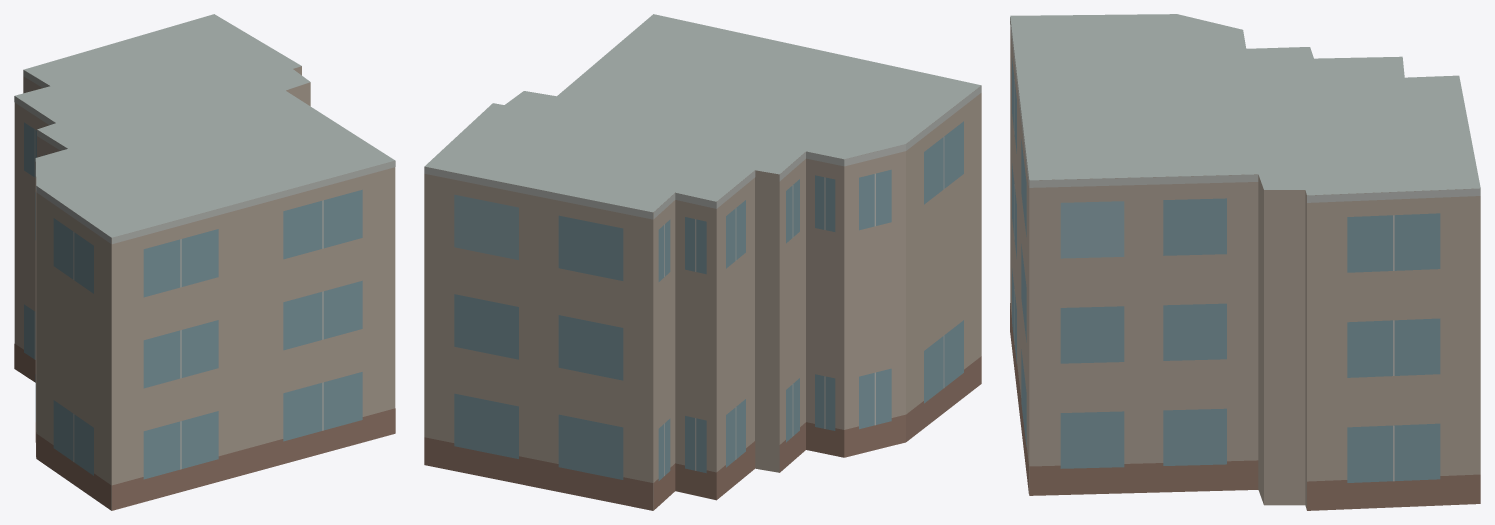
File: survey-upis-32979373.glb
The picture shows the model from 3 angles, left to right: view 1: azimuth 30°, elevation 25°; view 2: azimuth 150°, elevation 25°; view 3: azimuth 270°, elevation 25°; orthographic projection. The views are drawn at different scales.
Visible parts, largest first — view 1: survey-upis-32979373.tmp; view 2: survey-upis-32979373.tmp; view 3: survey-upis-32979373.tmp.
Part boxes in pixels (bbox=[...]): survey-upis-32979373.tmp: bbox=[14, 14, 395, 510]; survey-upis-32979373.tmp: bbox=[424, 14, 981, 510]; survey-upis-32979373.tmp: bbox=[1010, 14, 1480, 510].
Bounding box in the file's own units: 12.59 × 10.2 × 13.8.
